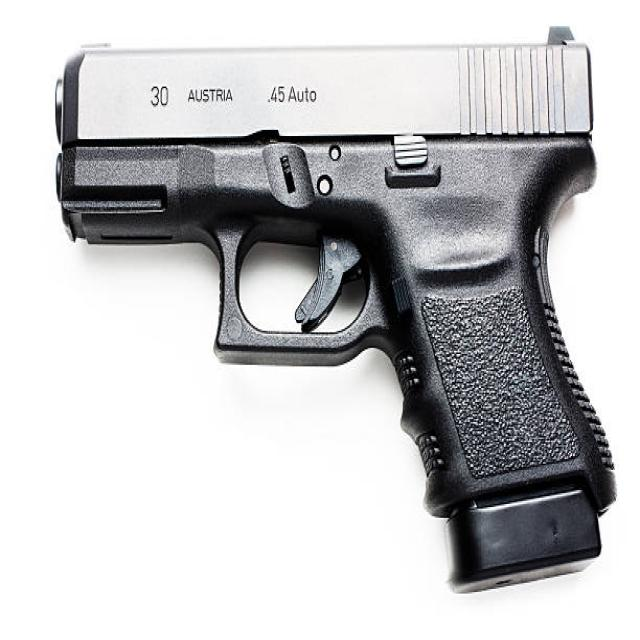pistol: (48, 14, 626, 595)
